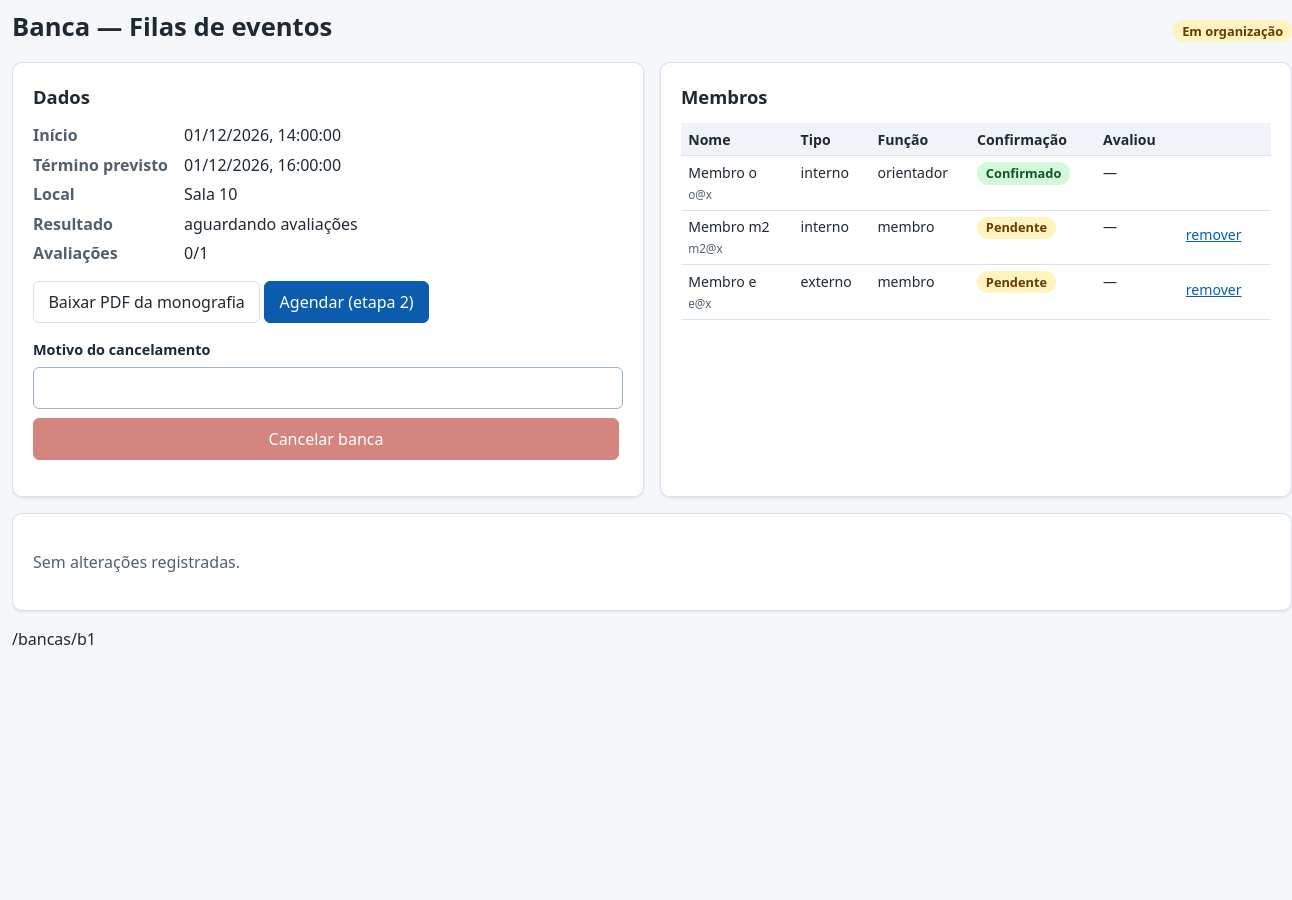
Scenario: Detalhe da banca › conflito de horário lista a banca que conflita
Step 1. Click the button "Agendar (etapa 2)" → (347, 302), box [264, 281, 429, 323]
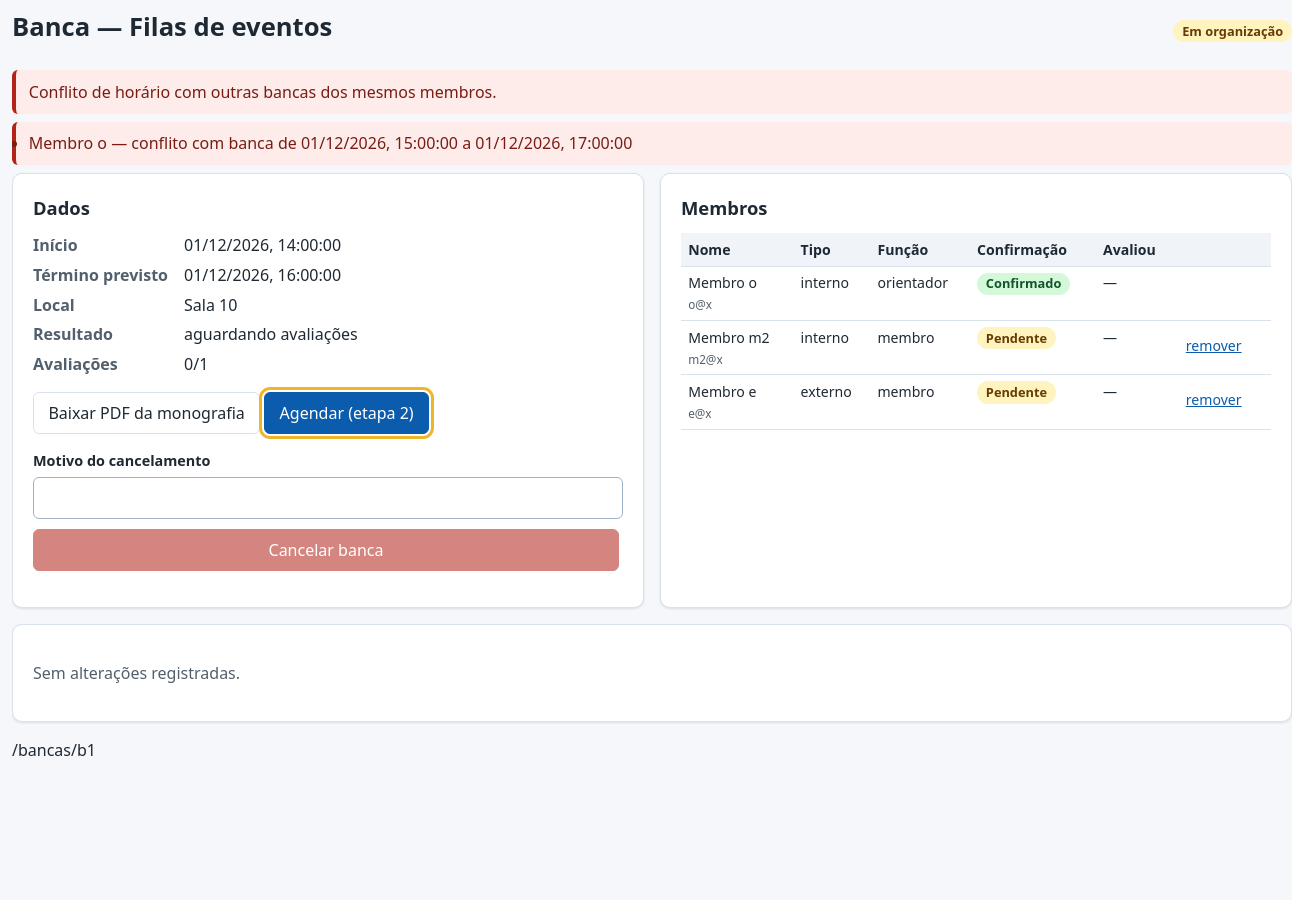
Expected: the list item "Membro o — conflito com banca de" is shown, [29, 132, 632, 154]
